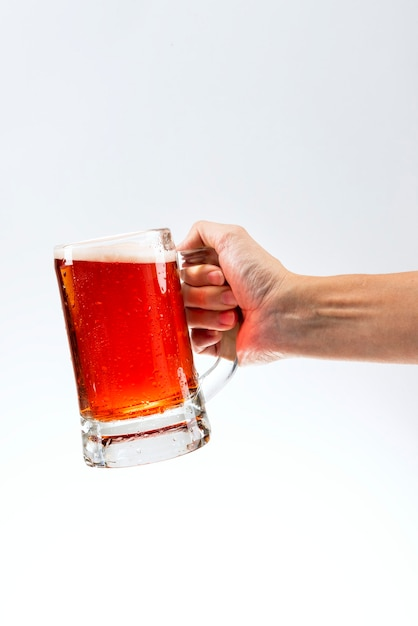alcohol: (52, 227, 246, 476)
